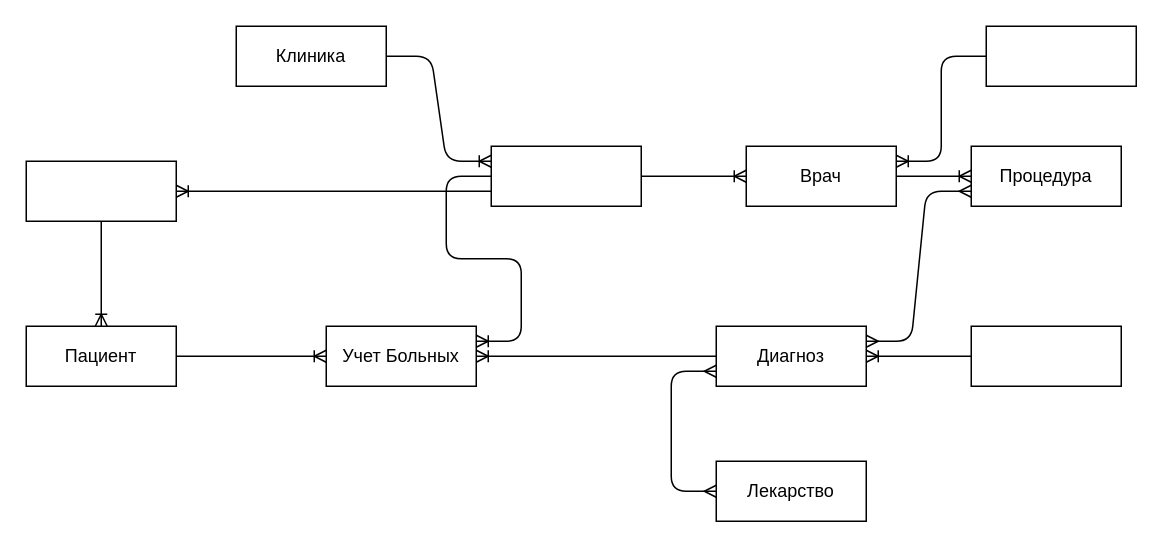
This 1163x548 diagram has some shape labels left out. Here are the shapes that lost their labels. From the top down, the centre of each, then its label:
At point 1060,55: "Должность".
At point 100,190: "Палата".
At point 565,175: "Отделение".
At point 1045,355: "Категория Заболевания".
